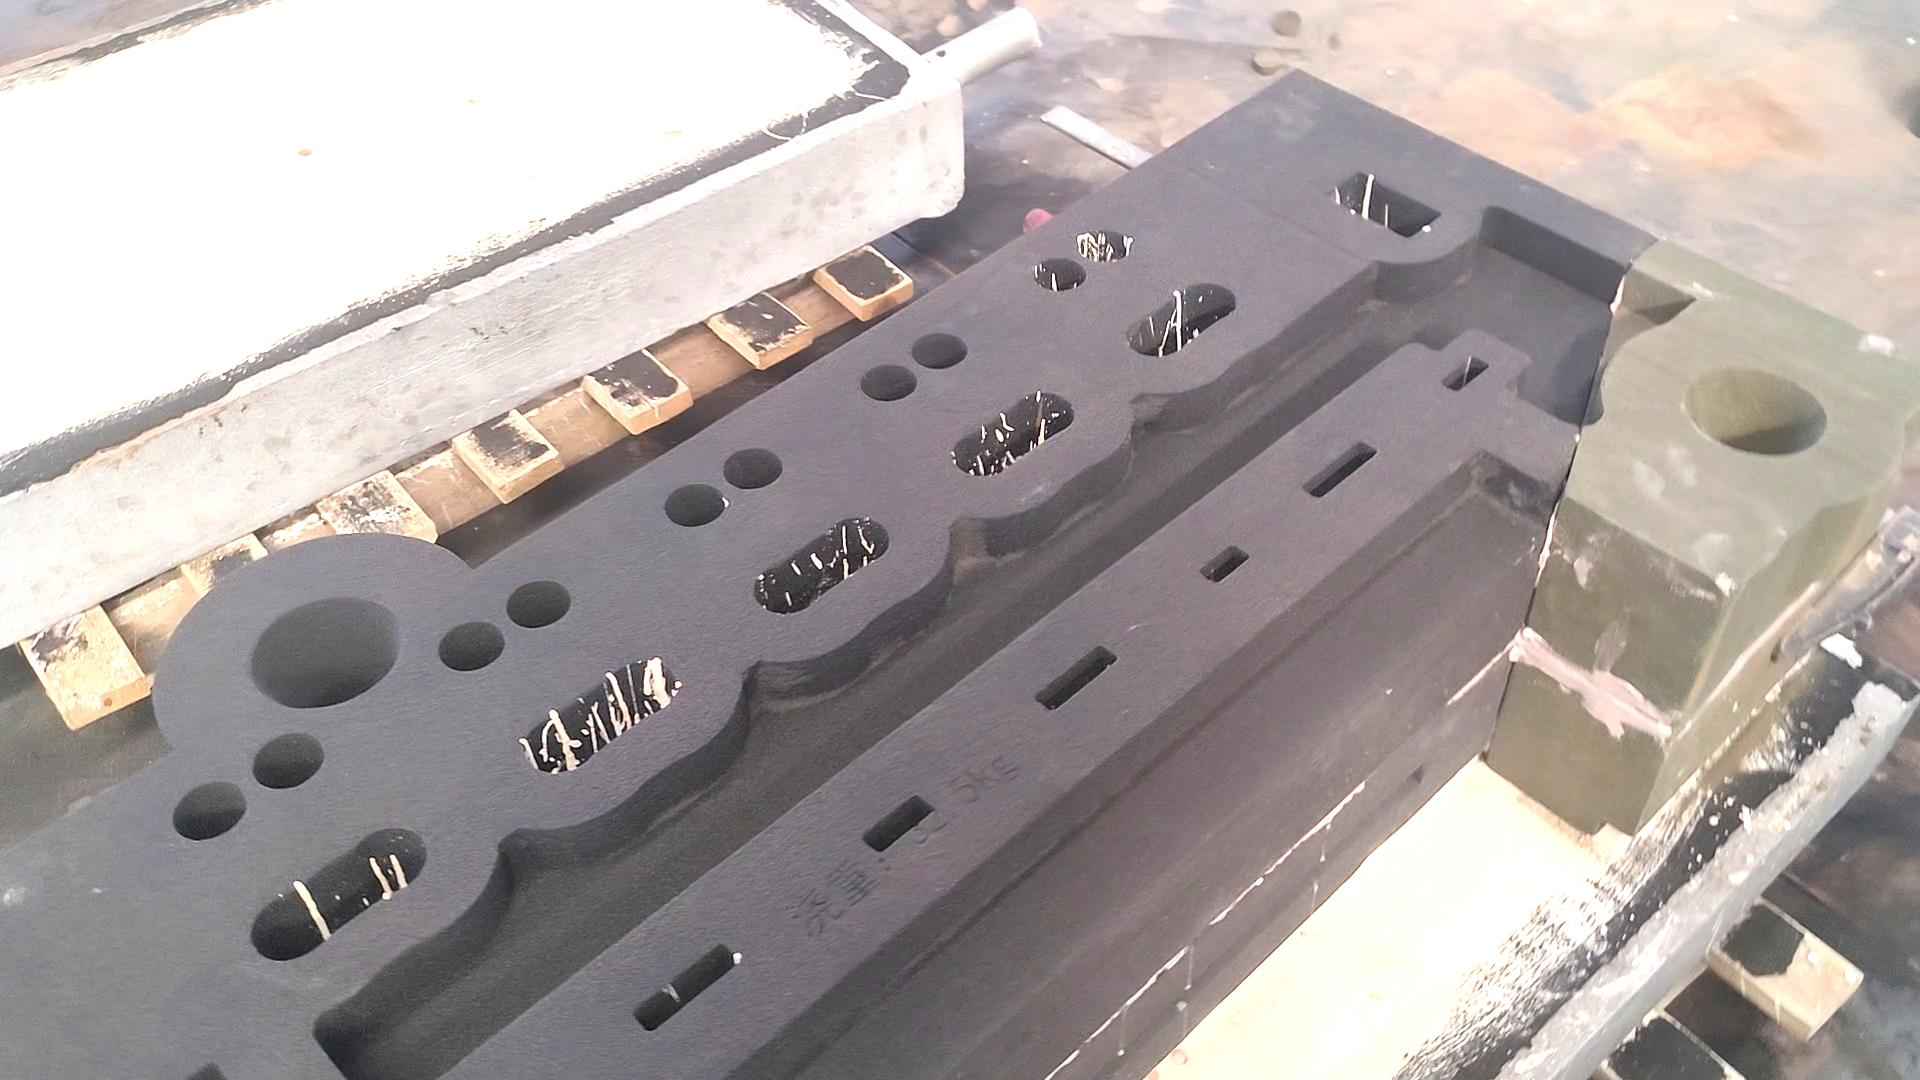pouring hole: (249, 597, 402, 707), (1687, 364, 1828, 455)
